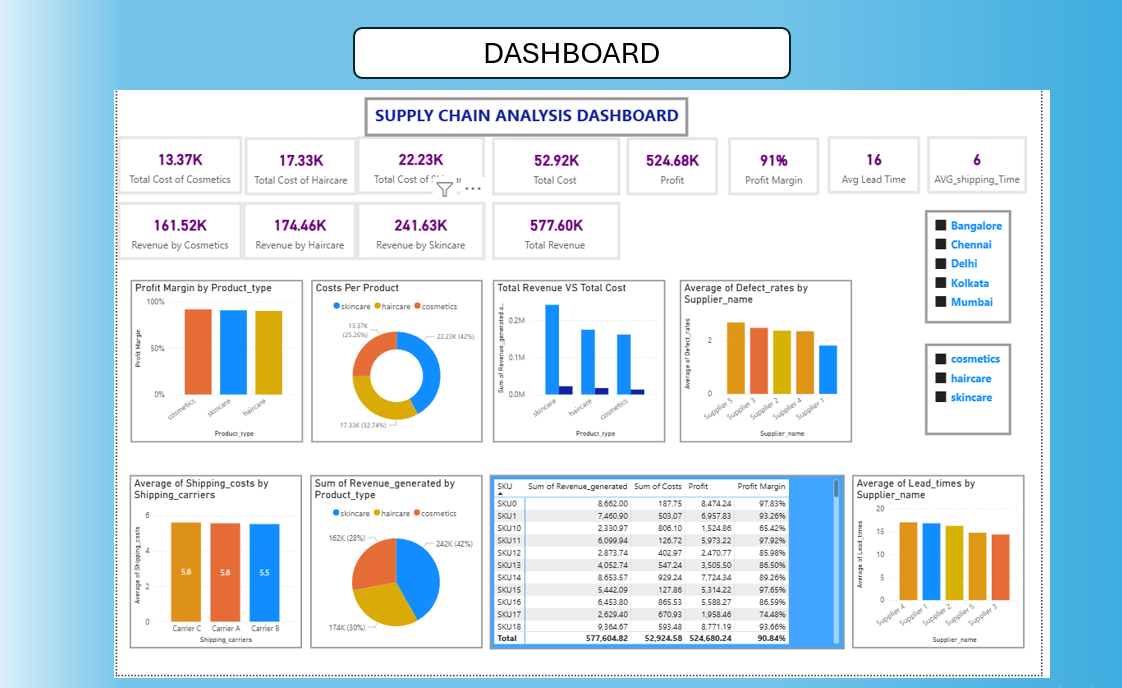

This screenshot's page, from the dashboard's own definition file:
{"tool":"powerbi","page":{"name":"Page 1","canvas":[1500,950],"ordinal":0},"visuals":[{"type":"card","fields":{"Values":["Sum(Supply_chain.Costs)"]},"box":[0,75.8,203.1,94.7],"z":0},{"type":"pivotTable","fields":{"Rows":["Supply_chain.SKU"],"Values":["Sum(Supply_chain.Revenue_generated)","Sum(Supply_chain.Costs)","Supply_chain.Profit","Supply_chain.Profit Margin"]},"box":[605.6,624.3,575.7,282.9],"z":1000},{"type":"card","fields":{"Values":["Sum(Supply_chain.Costs)"]},"box":[206.2,76,182.9,94.3],"z":2000},{"type":"slicer","fields":{"Values":["Supply_chain.Location"]},"box":[1311.4,194.3,140,184.3],"z":3000},{"type":"card","fields":{"Values":["Sum(Supply_chain.Costs)"]},"box":[388.9,75.8,208.6,94.7],"z":4000},{"type":"card","fields":{"Values":["Sum(Supply_chain.Revenue_generated)"]},"box":[0.5,181.6,202.9,94.3],"z":5000},{"type":"card","fields":{"Values":["Sum(Supply_chain.Revenue_generated)"]},"box":[203.3,181.6,185.7,94.3],"z":6000},{"type":"card","fields":{"Values":["Sum(Supply_chain.Revenue_generated)"]},"box":[389,181.6,208.6,94.3],"z":7000},{"type":"textbox","box":[401.4,11.4,525.7,64.3],"z":8000},{"type":"donutChart","title":"Costs Per Product","fields":{"Category":["Total_Cost_BY_Product.Product_type"],"Y":["Sum(Supply_chain.Costs)"]},"box":[315.4,308.6,278.8,263.6],"z":9000},{"type":"pieChart","fields":{"Category":["Total_Cost_BY_Product.Product_type"],"Y":["Sum(Supply_chain.Revenue_generated)"]},"box":[313.9,625.7,280.3,281.8],"z":10000},{"type":"card","fields":{"Values":["Sum(Supply_chain.Costs)"]},"box":[607.6,75.9,208.6,94.3],"z":11000},{"type":"card","fields":{"Values":["Sum(Supply_chain.Revenue_generated)"]},"box":[607.6,181.6,208.6,94.3],"z":12000},{"type":"card","fields":{"Values":["Supply_chain.Profit"]},"box":[826.2,75.9,148.6,94.3],"z":13000},{"type":"card","fields":{"Values":["Supply_chain.Profit Margin"]},"box":[991.9,75.9,148.6,94.3],"z":14000},{"type":"card","fields":{"Values":["Supply_chain.Avg Lead Time"]},"box":[1152.7,75.7,150,93.9],"z":15000},{"type":"card","fields":{"Values":["Supply_chain.AVG_shipping_Time"]},"box":[1314.8,75.7,162.1,93.9],"z":16000},{"type":"clusteredColumnChart","fields":{"Category":["Supply_chain.Product_type"],"Y":["Supply_chain.Profit Margin"]},"box":[21.4,308.6,280.3,263.6],"z":17000},{"type":"clusteredColumnChart","title":"Total Revenue VS Total Cost","fields":{"Category":["Supply_chain.Product_type"],"Y":["Sum(Supply_chain.Revenue_generated)","Sum(Supply_chain.Costs)"]},"box":[610.8,308.6,280.3,263.6],"z":18000},{"type":"clusteredColumnChart","fields":{"Category":["Supply_chain.Supplier_name"],"Y":["Avg(Supply_chain.Defect_rates)"]},"box":[913.9,308.6,280.3,263.6],"z":19000},{"type":"clusteredColumnChart","fields":{"Category":["Supply_chain.Supplier_name"],"Y":["Avg(Supply_chain.Lead_times)"]},"box":[1192.7,625.7,280.3,281.8],"z":20000},{"type":"columnChart","fields":{"Category":["Supply_chain.Shipping_carriers"],"Y":["Avg(Supply_chain.Shipping_costs)"]},"box":[20,625.7,280.3,281.8],"z":21000},{"type":"slicer","fields":{"Values":["Supply_chain.Product_type"]},"box":[1311.4,411.4,140,148.6],"z":22000}]}

Visuals, with their boxes on the page's 1500x950 design canvas (x1, y1, x2, y2). These are canvas units, not pixel positions in the 1122x688 screenshot, which may show the page scaled, cropped or inside an application window:
card - Sum(Supply_chain.Costs): 0,76,203,170
pivotTable - Supply_chain.SKU x Sum(Supply_chain.Revenue_generated): 606,624,1181,907
card - Sum(Supply_chain.Costs): 206,76,389,170
slicer - Supply_chain.Location: 1311,194,1451,379
card - Sum(Supply_chain.Costs): 389,76,598,170
card - Sum(Supply_chain.Revenue_generated): 0,182,203,276
card - Sum(Supply_chain.Revenue_generated): 203,182,389,276
card - Sum(Supply_chain.Revenue_generated): 389,182,598,276
textbox: 401,11,927,76
"Costs Per Product" donutChart: 315,309,594,572
pieChart - Total_Cost_BY_Product.Product_type x Sum(Supply_chain.Revenue_generated): 314,626,594,908
card - Sum(Supply_chain.Costs): 608,76,816,170
card - Sum(Supply_chain.Revenue_generated): 608,182,816,276
card - Supply_chain.Profit: 826,76,975,170
card - Supply_chain.Profit Margin: 992,76,1140,170
card - Supply_chain.Avg Lead Time: 1153,76,1303,170
card - Supply_chain.AVG_shipping_Time: 1315,76,1477,170
clusteredColumnChart - Supply_chain.Product_type x Supply_chain.Profit Margin: 21,309,302,572
"Total Revenue VS Total Cost" clusteredColumnChart: 611,309,891,572
clusteredColumnChart - Supply_chain.Supplier_name x Avg(Supply_chain.Defect_rates): 914,309,1194,572
clusteredColumnChart - Supply_chain.Supplier_name x Avg(Supply_chain.Lead_times): 1193,626,1473,908
columnChart - Supply_chain.Shipping_carriers x Avg(Supply_chain.Shipping_costs): 20,626,300,908
slicer - Supply_chain.Product_type: 1311,411,1451,560
